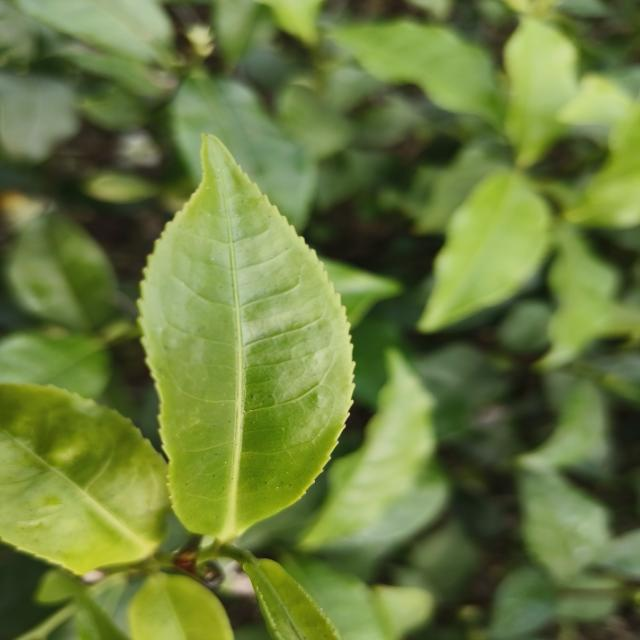Leaf: (140, 136, 353, 541), (0, 384, 169, 574), (301, 349, 435, 550), (171, 72, 316, 230), (418, 170, 551, 332), (331, 20, 501, 126), (7, 213, 117, 333), (541, 224, 617, 368), (505, 17, 577, 167), (519, 469, 610, 583), (15, 0, 172, 64), (282, 555, 386, 640), (243, 556, 340, 640), (0, 332, 109, 398), (0, 72, 79, 163), (129, 572, 233, 640)
